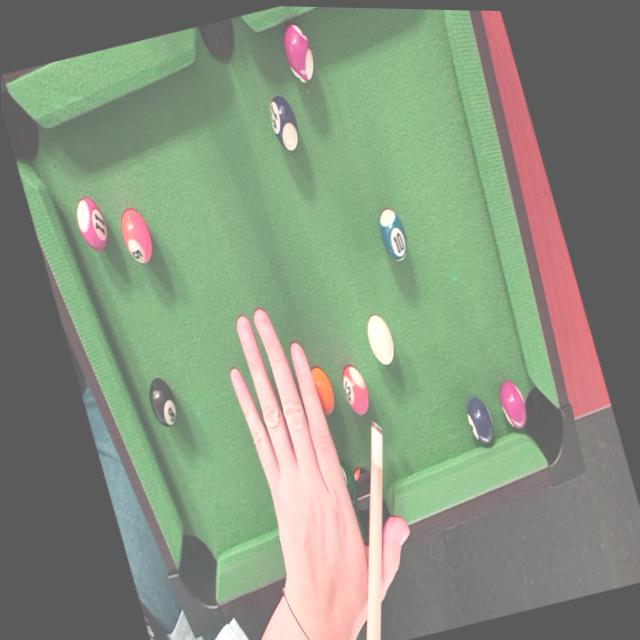cue ball: (357, 310, 401, 376)
other: (111, 199, 161, 274), (273, 14, 320, 87), (367, 196, 415, 266), (258, 90, 306, 160), (139, 366, 183, 435), (489, 370, 533, 437), (457, 389, 500, 453), (69, 192, 111, 251), (305, 362, 342, 421), (334, 358, 370, 411)
